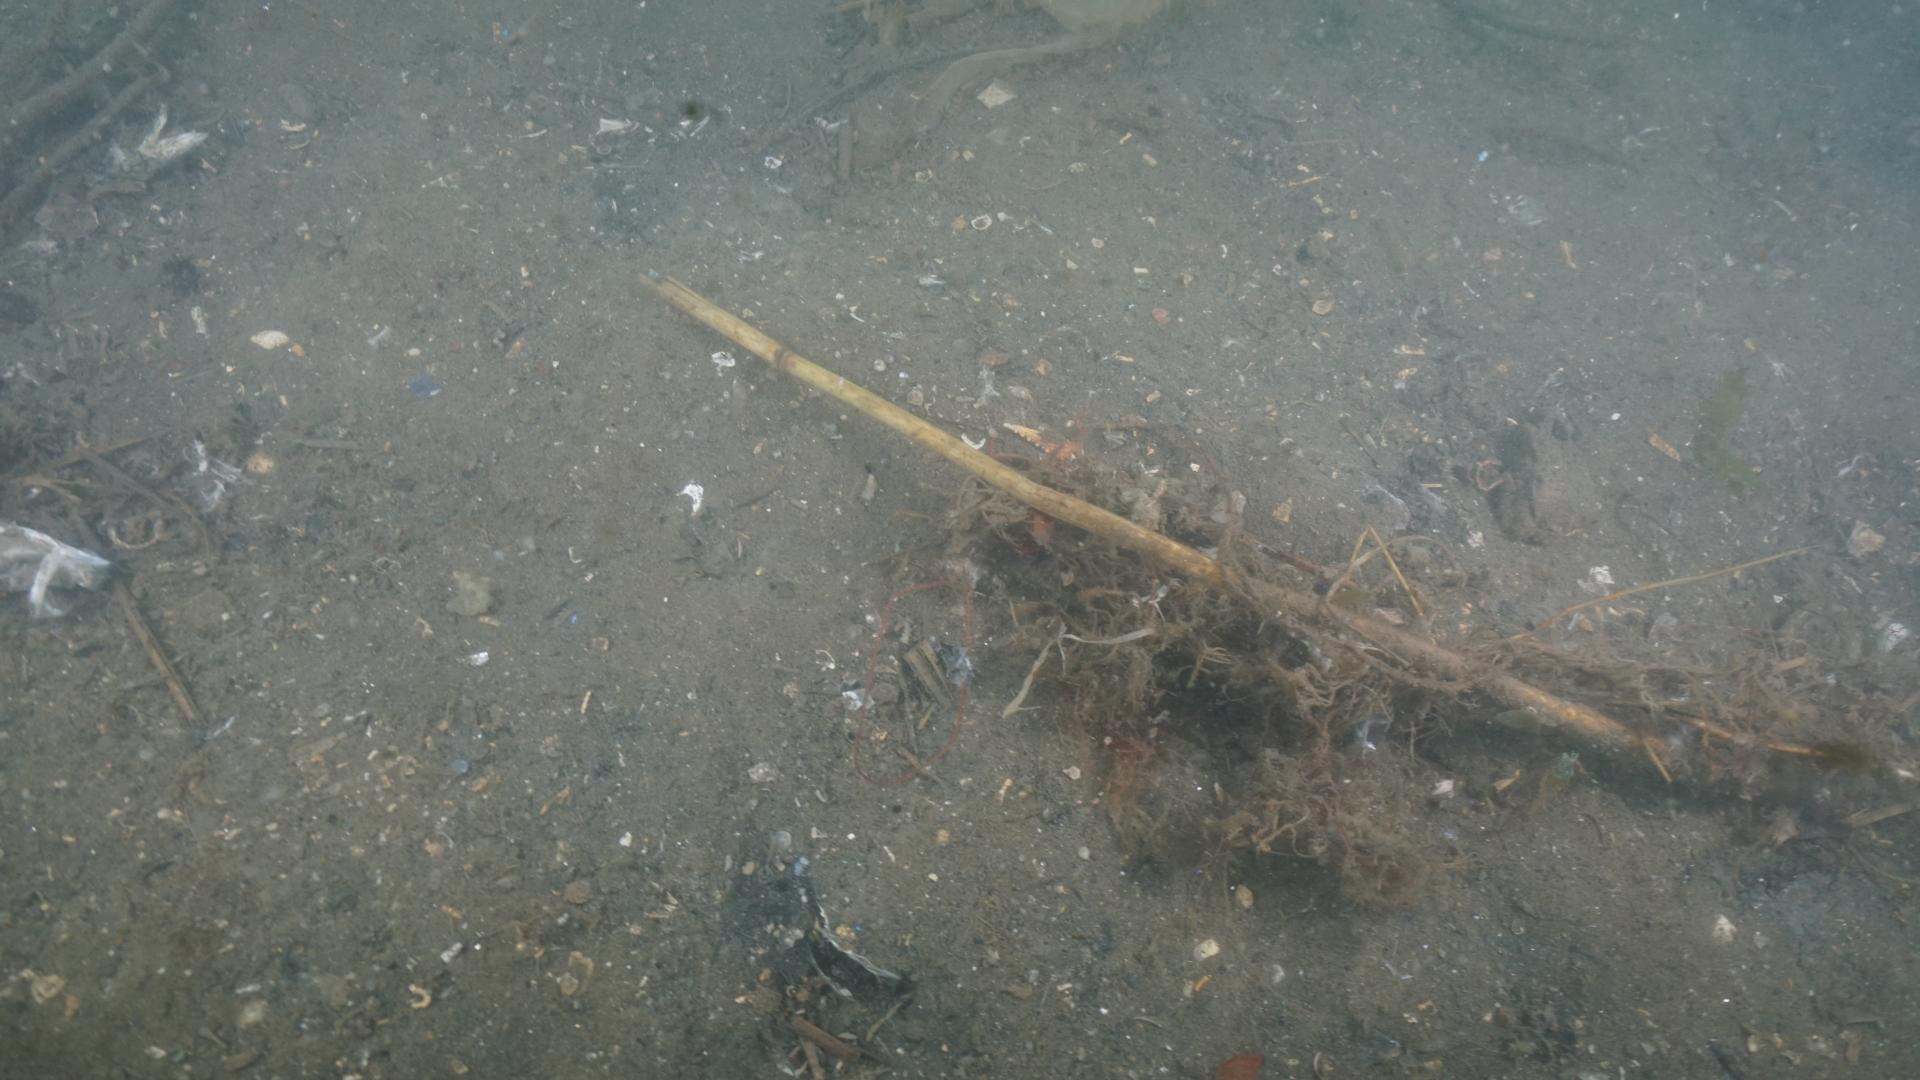wood: (644, 282, 1874, 858)
